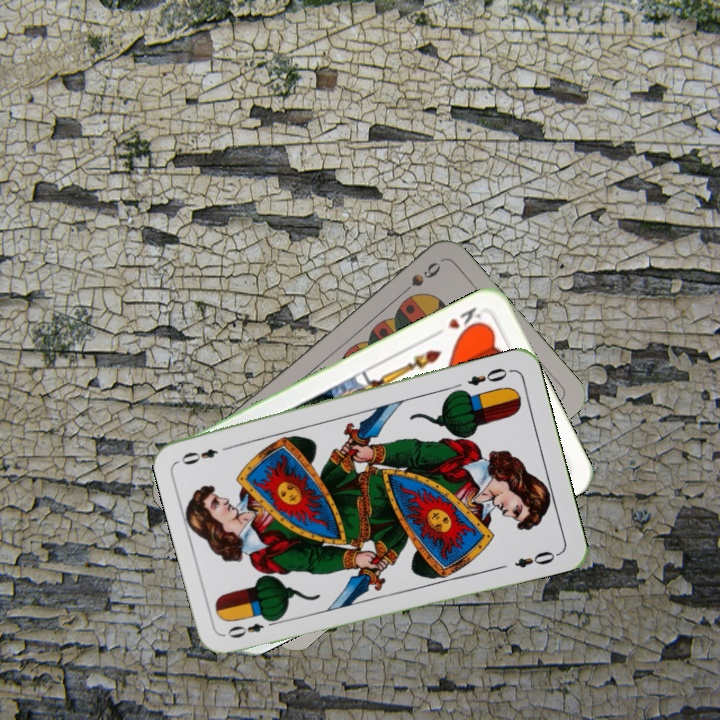EO: (223, 613, 281, 641), (463, 364, 510, 389)
HK: (430, 303, 486, 340)
S9: (394, 257, 444, 300)
